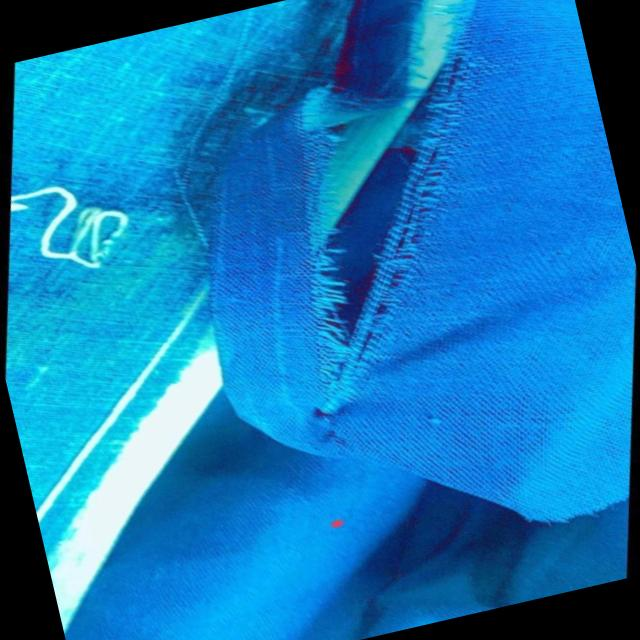cut: (211, 28, 531, 392)
